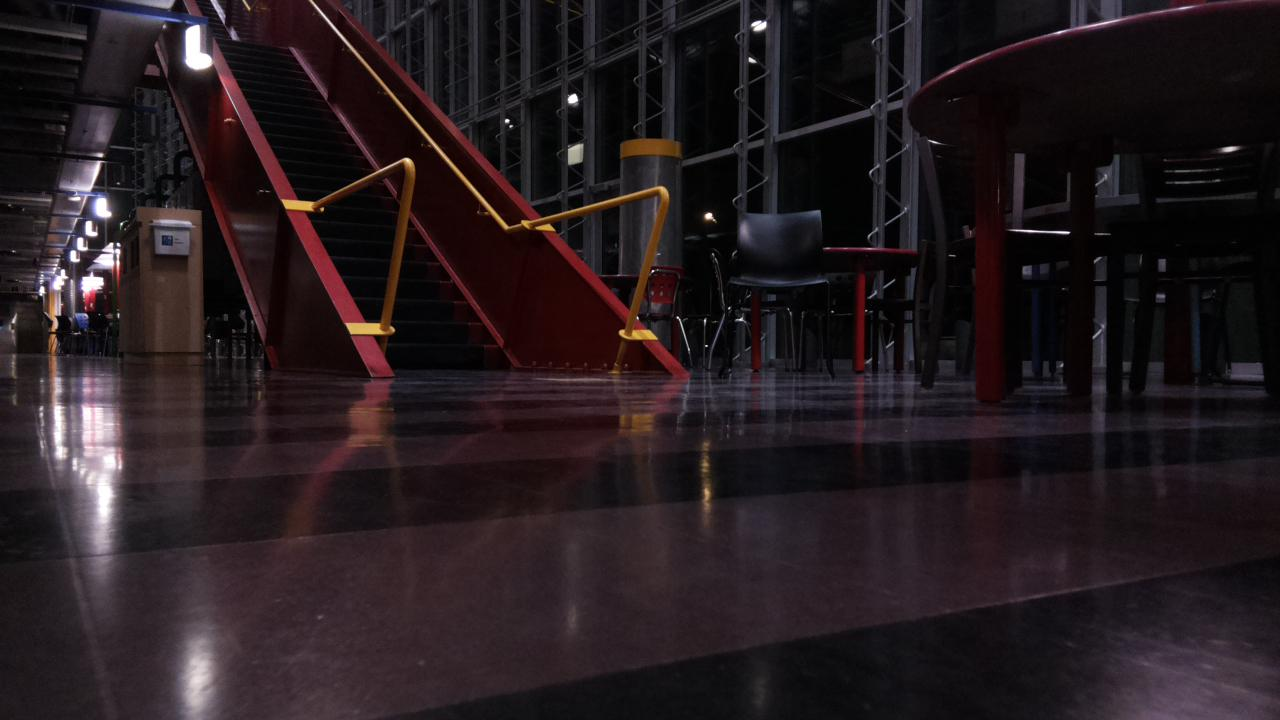sign: (160, 233, 184, 247)
stair: (194, 0, 500, 369)
